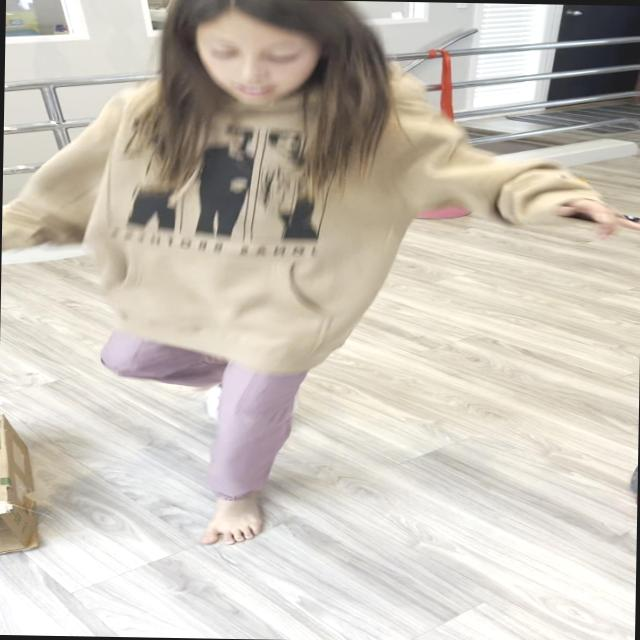Soccer Ball: (201, 379, 300, 429)
